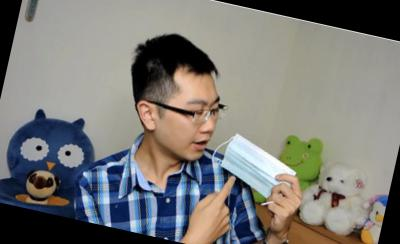without_mask: (151, 82, 224, 167)
